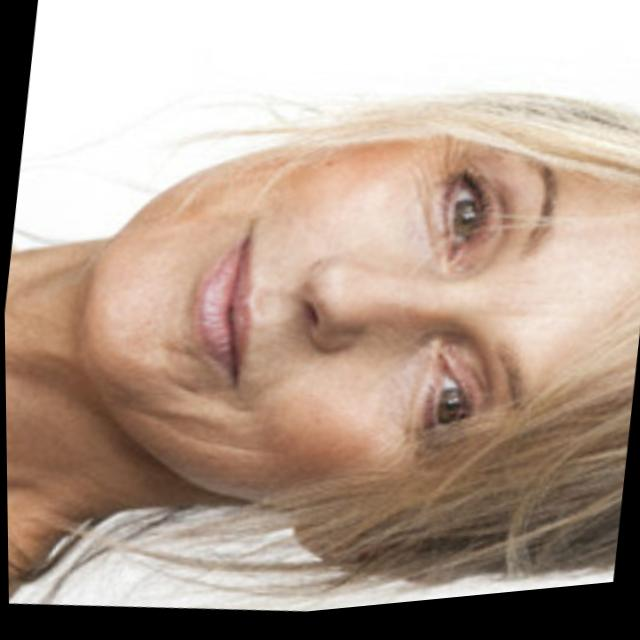Wrinkles: (133, 412, 284, 459)
